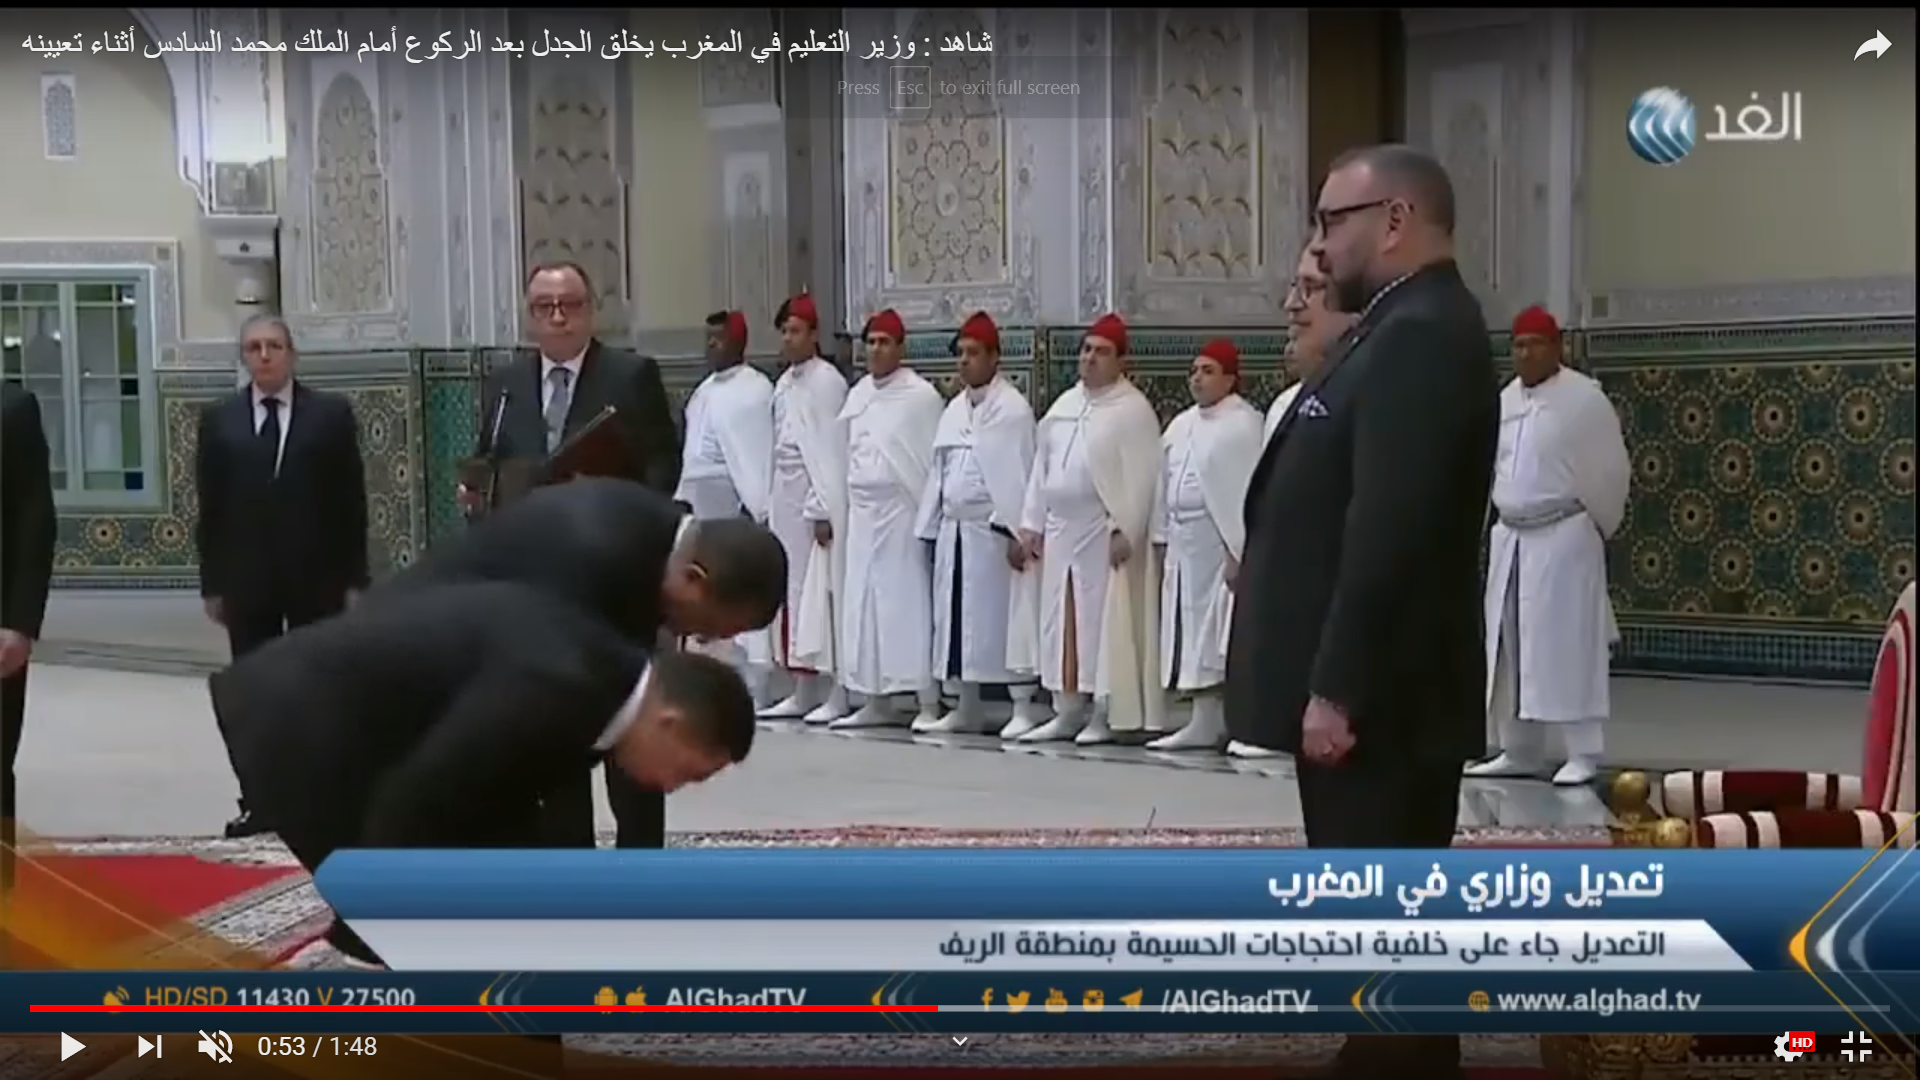ruku: (215, 568, 816, 1018)
